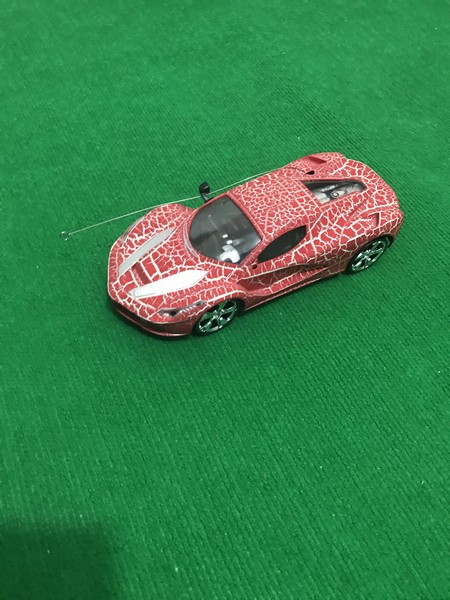RC: (104, 148, 406, 342)
